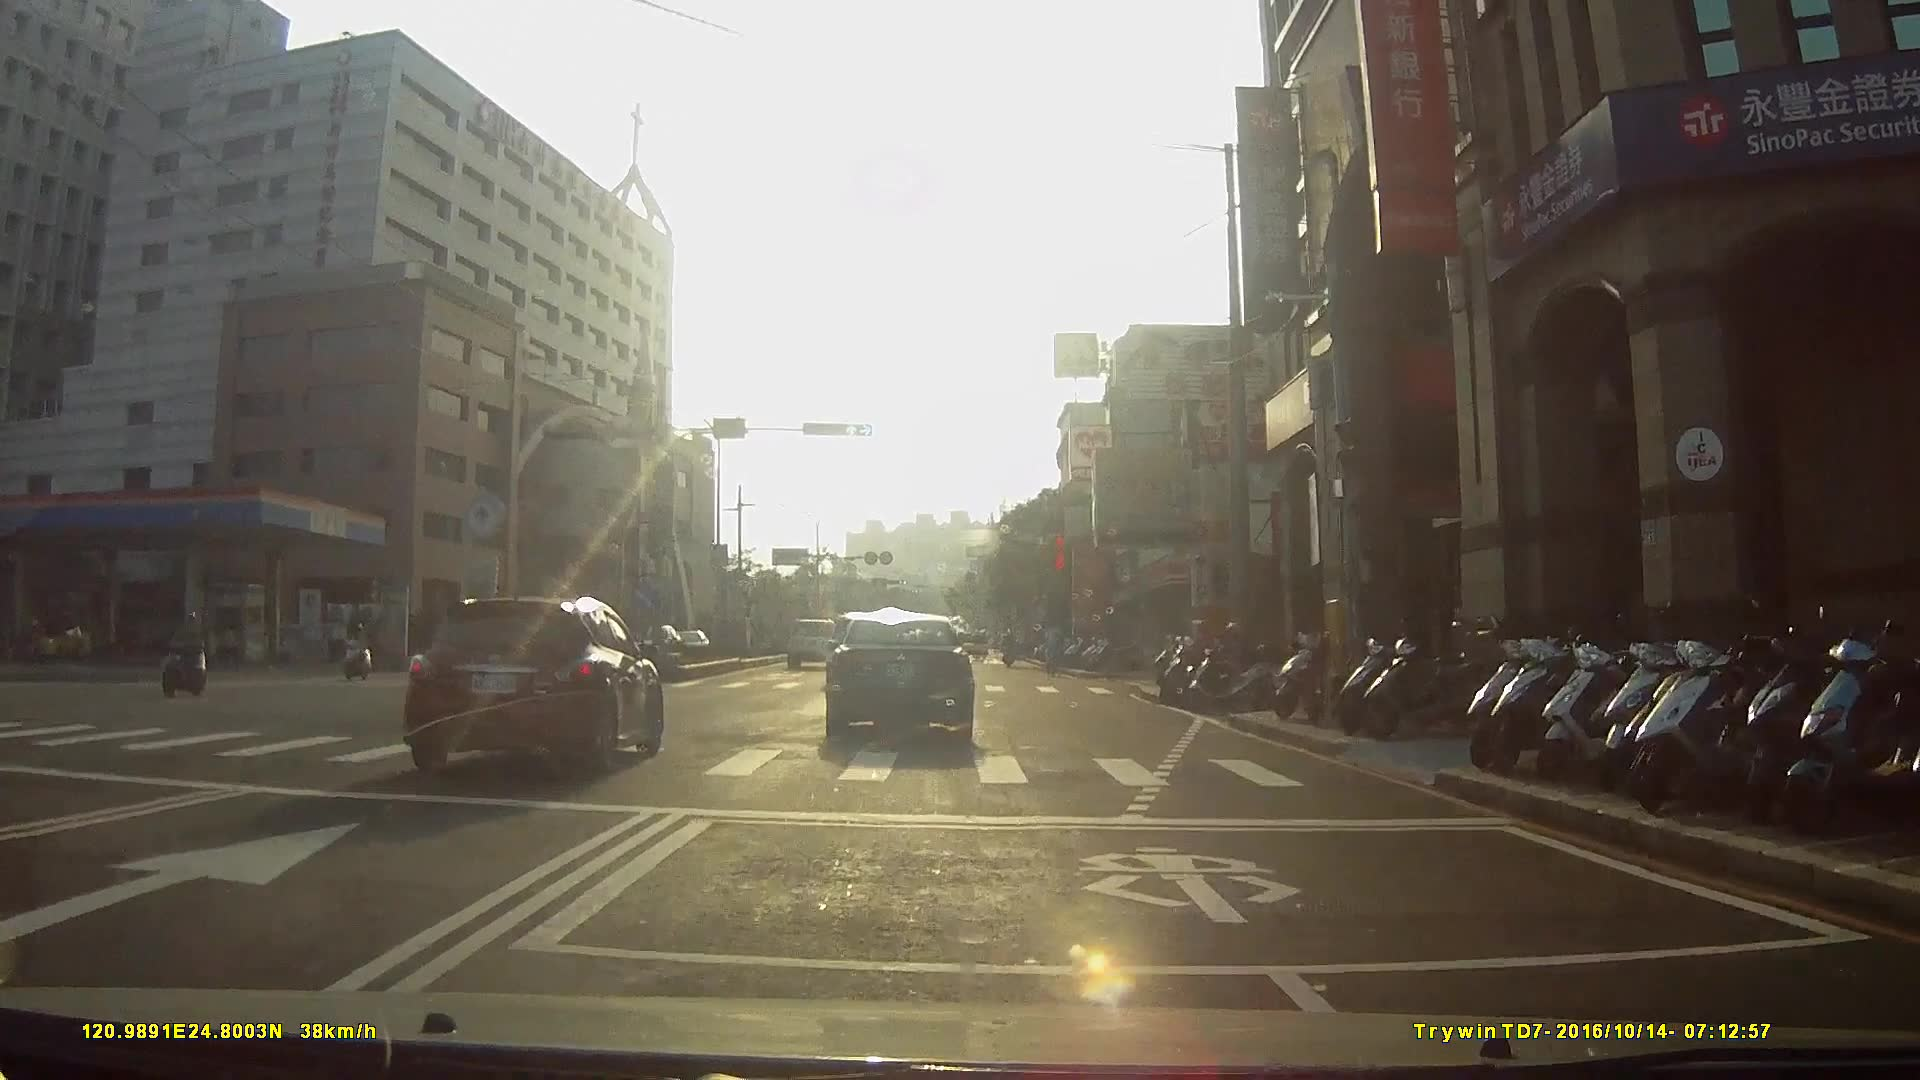rider: (1177, 617, 1281, 715), (162, 608, 213, 699), (344, 623, 373, 682)
vehicle: (397, 583, 677, 780), (821, 605, 989, 747), (787, 610, 846, 665)
